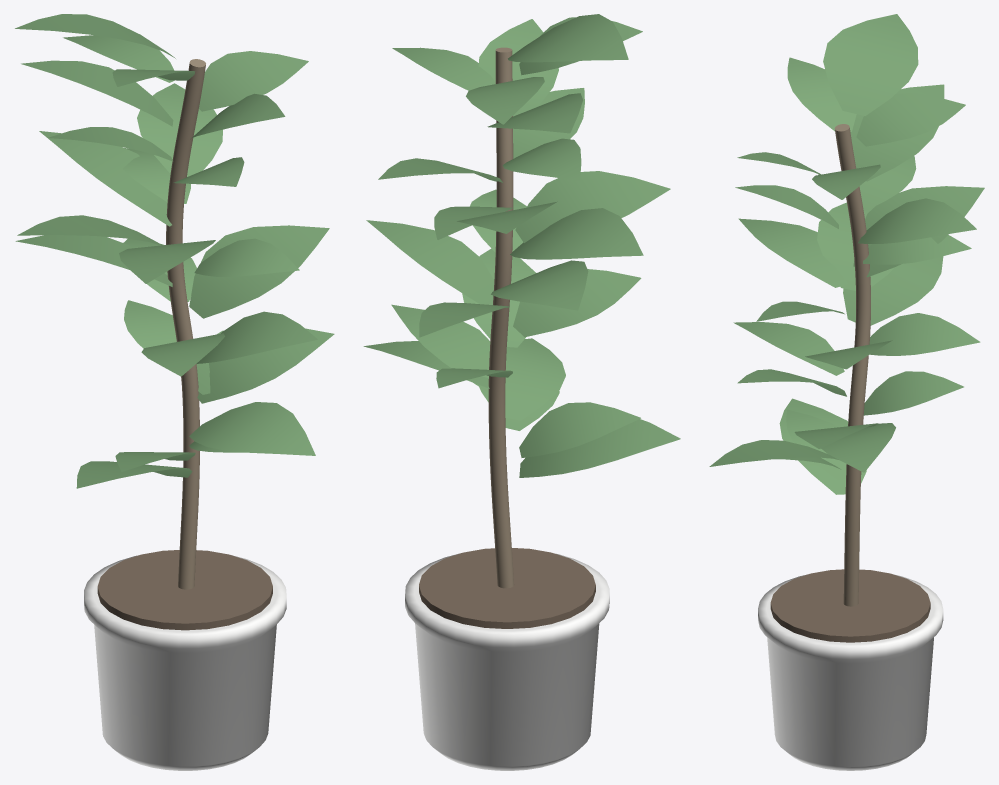
The model's file is plant_fig.glb.
3 renders of one model, left to right at view 1: azimuth 30°, elevation 25°; view 2: azimuth 150°, elevation 25°; view 3: azimuth 270°, elevation 25°, orthographic. The views are drawn at different scales.
Visible parts, largest first — view 1: leaves, pot, soil, trunk; view 2: leaves, pot, soil, trunk; view 3: leaves, pot, soil, trunk.
Part boxes in pixels (x1,y1,x2,y2): leaves: (15, 14, 334, 488); pot: (84, 555, 286, 770); soil: (97, 550, 272, 630); trunk: (166, 59, 205, 589); leaves: (363, 14, 680, 477); pot: (405, 553, 609, 770); soil: (419, 548, 595, 628); trunk: (488, 47, 514, 588); leaves: (709, 14, 984, 494); pot: (758, 574, 943, 770); soil: (770, 569, 930, 642); trunk: (834, 124, 870, 606).
Size of the model in its own units: 0.7341 by 1.75 by 0.6548.
